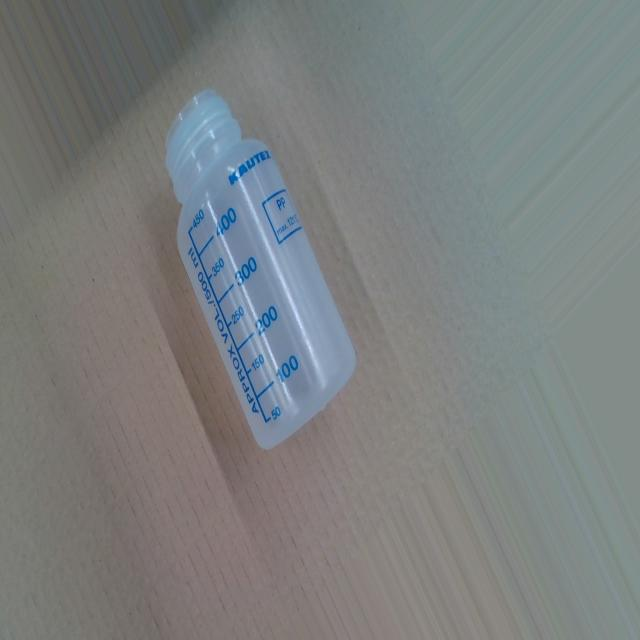bottle: (162, 79, 360, 456)
